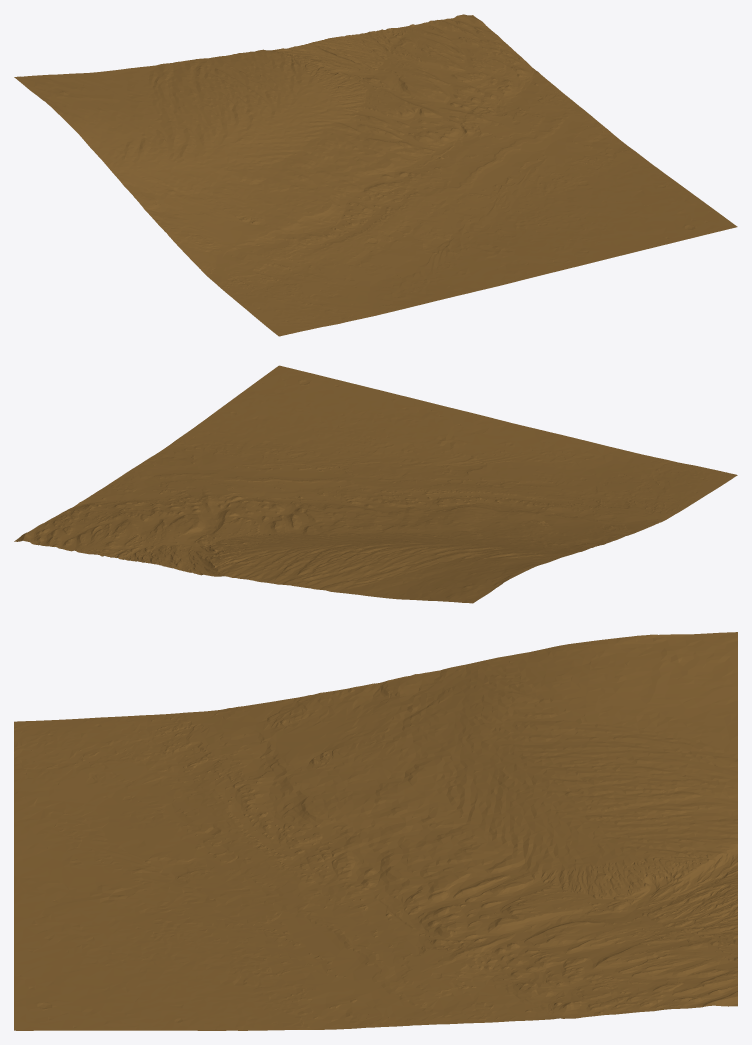
The model's file is curiosity_path.gltf.
3 views of the same model, one above another, from view 1: azimuth 30°, elevation 25°; view 2: azimuth 150°, elevation 25°; view 3: azimuth 270°, elevation 25° (orthographic). The views are drawn at different scales.
Visible parts, largest first — view 1: curiosity_path; view 2: curiosity_path; view 3: curiosity_path.
Boxes of the visible parts, x1,y1,x2,y2 form: curiosity_path: [14, 14, 737, 336]; curiosity_path: [14, 365, 737, 603]; curiosity_path: [14, 632, 737, 1030].
Size of the model in its own units: 304 by 43.5 by 304.
